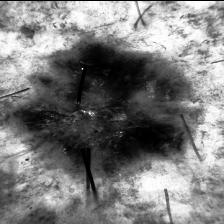Potentially Malignant Skin Tumors: (112, 106, 204, 154)
